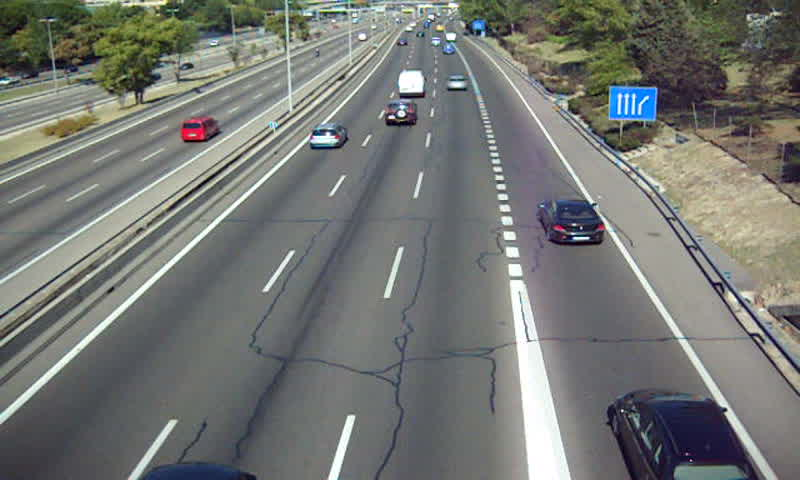car: (610, 390, 759, 480), (540, 200, 607, 244), (309, 121, 346, 148), (384, 99, 418, 125), (445, 74, 469, 92)
van: (397, 70, 426, 99)
